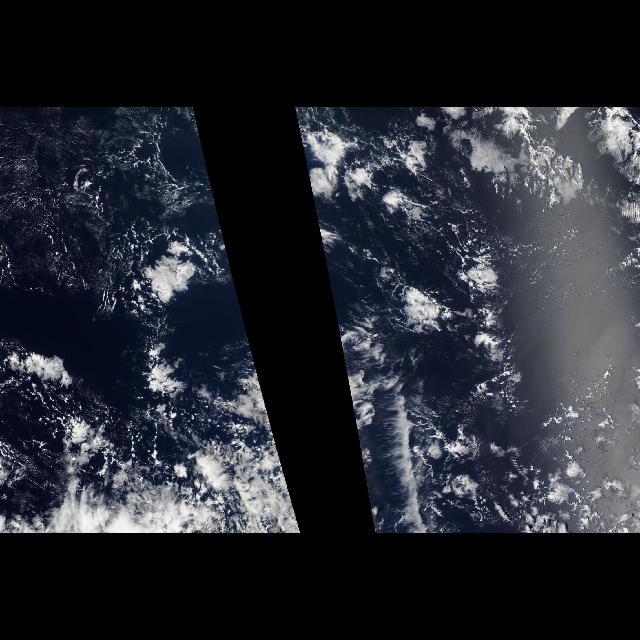Gravel: (2, 107, 182, 280)
